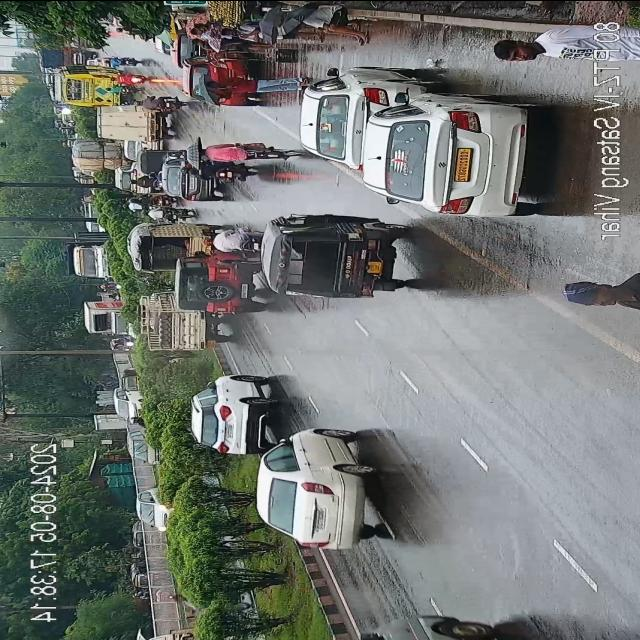2-wheelers: (189, 140, 297, 163), (198, 227, 261, 250), (180, 164, 252, 178), (126, 194, 172, 214), (138, 208, 196, 218), (111, 72, 145, 84), (105, 56, 142, 66), (103, 85, 142, 94)
auto: (260, 209, 410, 298)
bus: (62, 65, 114, 104)
car: (364, 90, 536, 216), (252, 419, 368, 547), (305, 70, 421, 166), (185, 375, 273, 461), (175, 255, 256, 313), (160, 158, 216, 202), (132, 482, 174, 526), (125, 425, 162, 463)
pedestrian: (199, 60, 299, 104), (487, 21, 578, 65), (556, 273, 640, 309), (302, 4, 366, 44), (183, 17, 260, 49)
truck: (132, 291, 216, 351), (99, 102, 177, 152), (132, 222, 210, 268)
